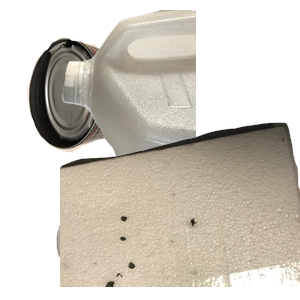glass: (54, 202, 193, 300)
metal: (25, 35, 189, 180)
plastic: (60, 10, 300, 190)
trash: (60, 120, 300, 300)
